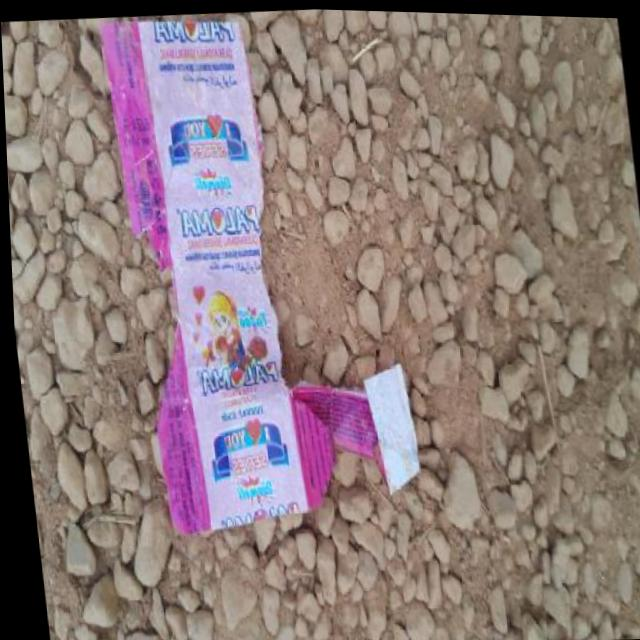paper: (106, 99, 640, 426)
